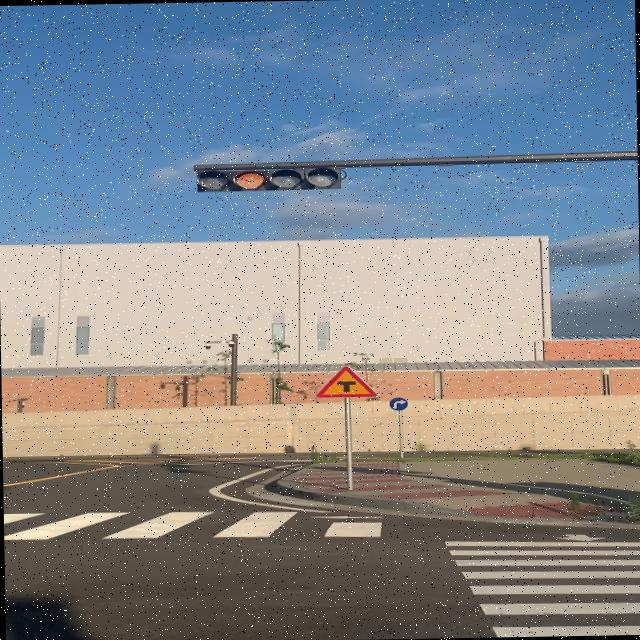yellow_light: (196, 164, 342, 192)
